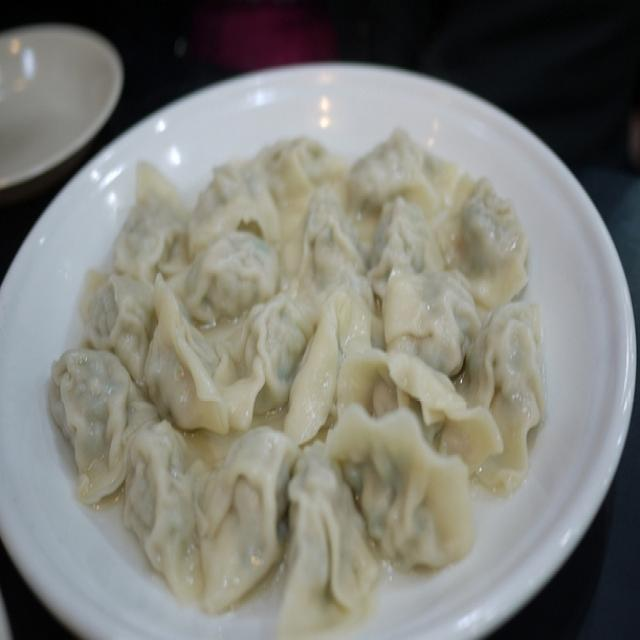带馅早点: (36, 61, 601, 610)
